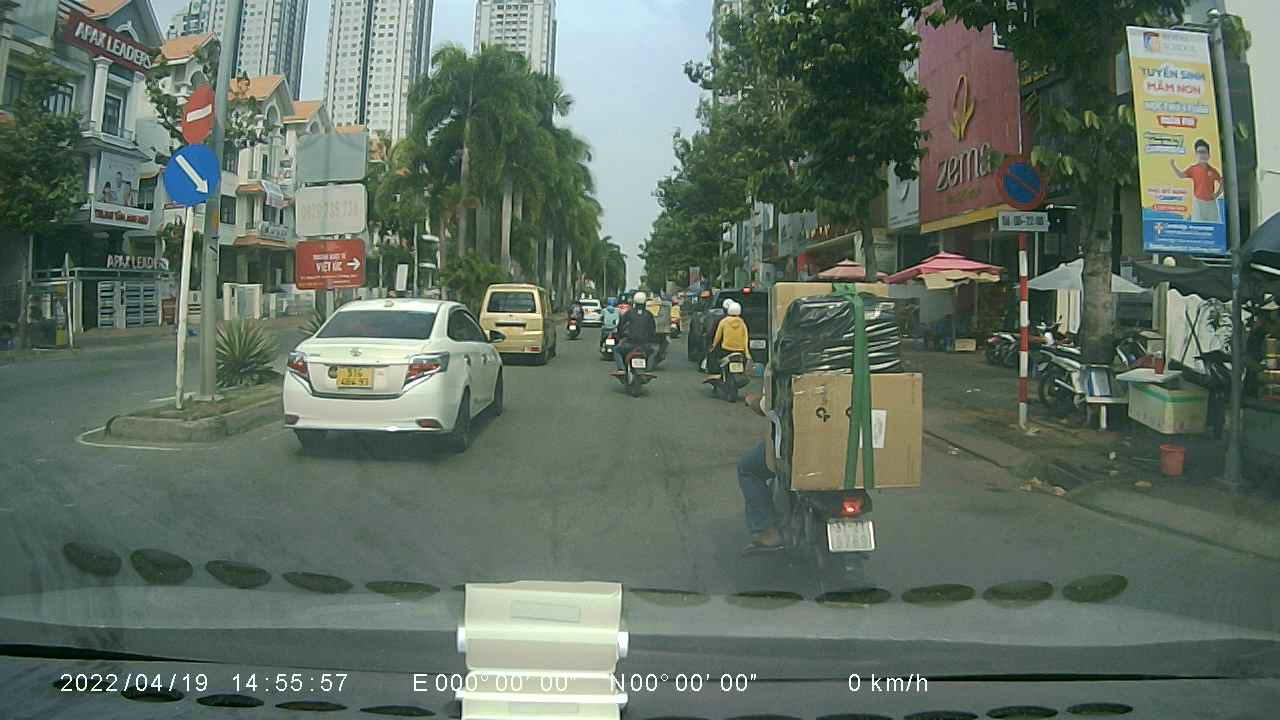Cam di nguoc chieu: (174, 79, 219, 142)
Cam do xe: (992, 149, 1049, 210)
Huong di phai re phai: (161, 146, 220, 209)
